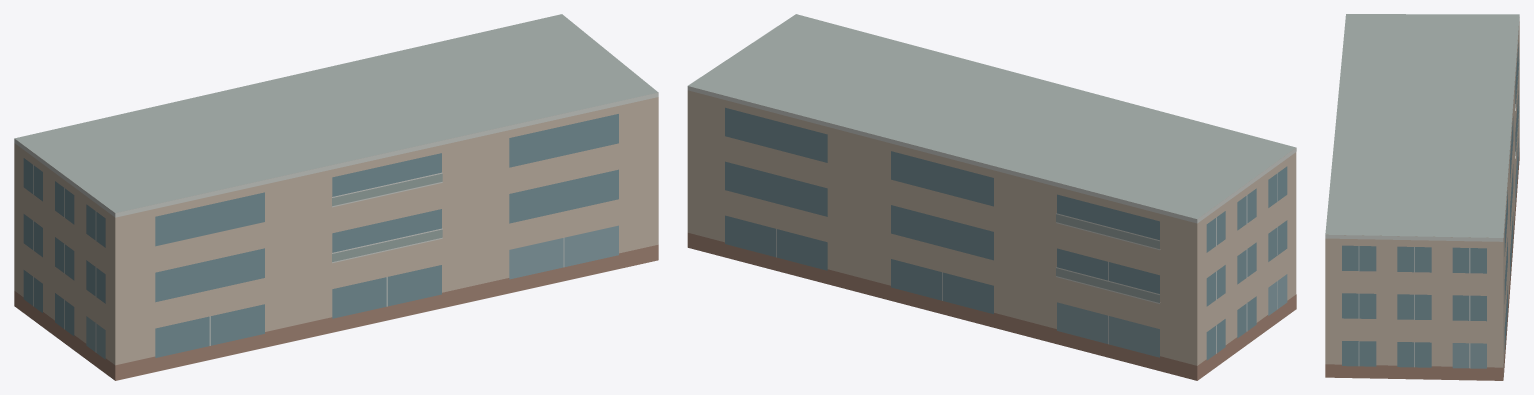
File: survey-upis-32576305.glb
The picture shows the model from 3 angles, left to right: view 1: azimuth 30°, elevation 25°; view 2: azimuth 150°, elevation 25°; view 3: azimuth 270°, elevation 25°; orthographic projection. The views are drawn at different scales.
Visible parts, largest first — view 1: survey-upis-32576305.tmp; view 2: survey-upis-32576305.tmp; view 3: survey-upis-32576305.tmp.
Boxes of the visible parts, x1,y1,x2,y2 form: survey-upis-32576305.tmp: [14, 14, 658, 380]; survey-upis-32576305.tmp: [687, 14, 1296, 380]; survey-upis-32576305.tmp: [1325, 14, 1519, 380].
Bounding box in the file's own units: 30.79 × 9.15 × 11.29.
